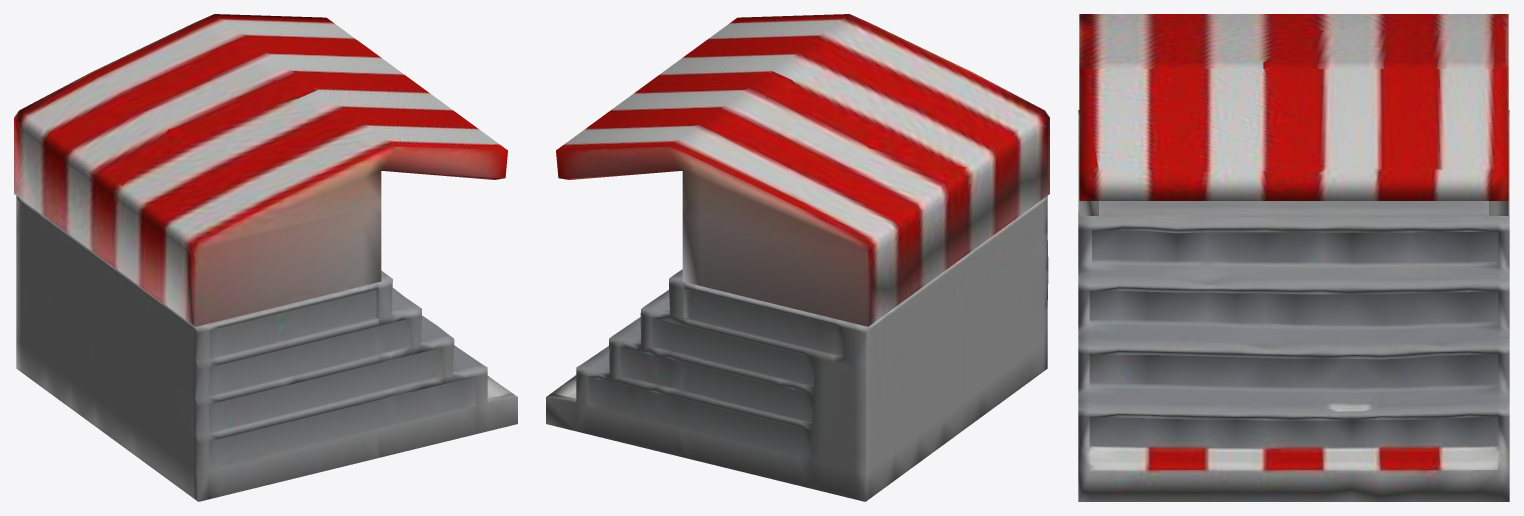
Rendered from grandstand_empty.glb.
3 renders of one model, left to right at view 1: azimuth 30°, elevation 25°; view 2: azimuth 150°, elevation 25°; view 3: azimuth 270°, elevation 25°, orthographic. The views are drawn at different scales.
Parts seen in each view (by area): view 1: tripo_node_e0d41dc8-978a-452e-b20a-86b5e663cd94; view 2: tripo_node_e0d41dc8-978a-452e-b20a-86b5e663cd94; view 3: tripo_node_e0d41dc8-978a-452e-b20a-86b5e663cd94.
Boxes of the visible parts, x1,y1,x2,y2 form: tripo_node_e0d41dc8-978a-452e-b20a-86b5e663cd94: (14, 14, 517, 501); tripo_node_e0d41dc8-978a-452e-b20a-86b5e663cd94: (546, 14, 1049, 501); tripo_node_e0d41dc8-978a-452e-b20a-86b5e663cd94: (1078, 14, 1509, 501).
Size of the model in its own units: 0.998 by 0.9082 by 0.9785.
Materials: 1 (1 with a texture image).
